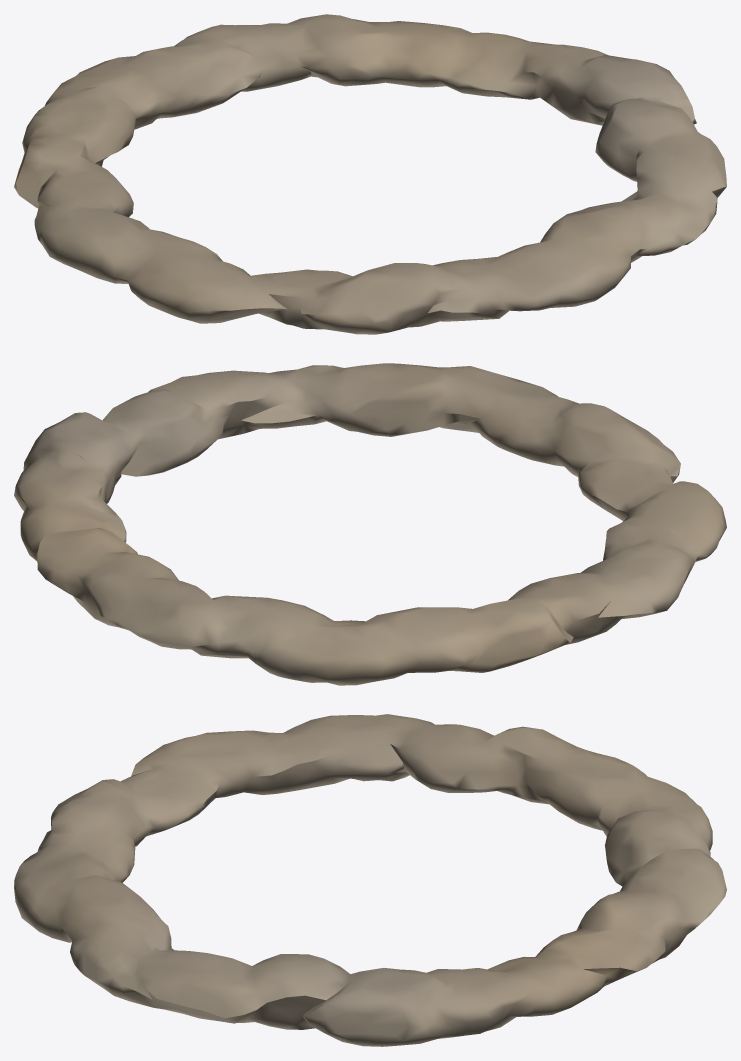
Rendered from cave_pool_rim.glb.
3 views of the same model, one above another, from view 1: azimuth 30°, elevation 25°; view 2: azimuth 150°, elevation 25°; view 3: azimuth 270°, elevation 25° (orthographic).
Parts seen in each view (by area): view 1: cave_pool_rim; view 2: cave_pool_rim; view 3: cave_pool_rim.
Boxes of the visible parts, box(x1,y1,x2,y2) form: cave_pool_rim: box(14, 14, 726, 334); cave_pool_rim: box(14, 363, 726, 685); cave_pool_rim: box(14, 714, 726, 1046).
Bounding box in the file's own units: 3.42 × 0.302 × 3.34.
